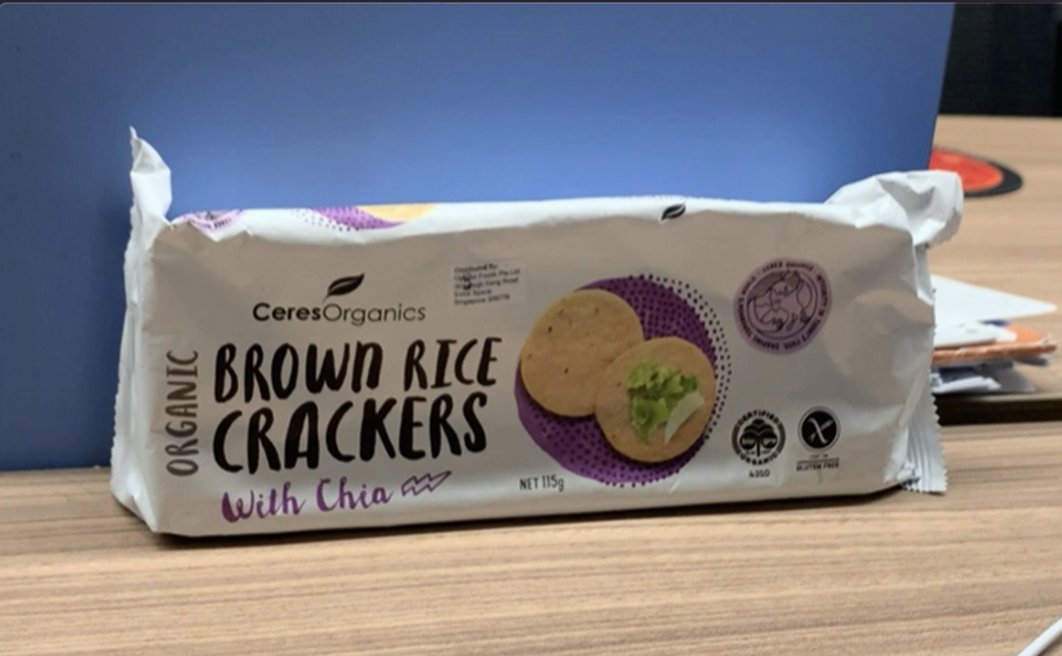crackers_100g-199g: (160, 236, 908, 493)
